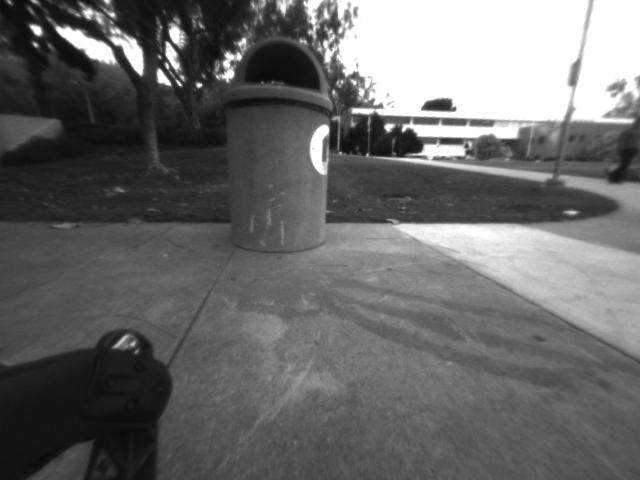trashcan: (215, 21, 347, 257)
